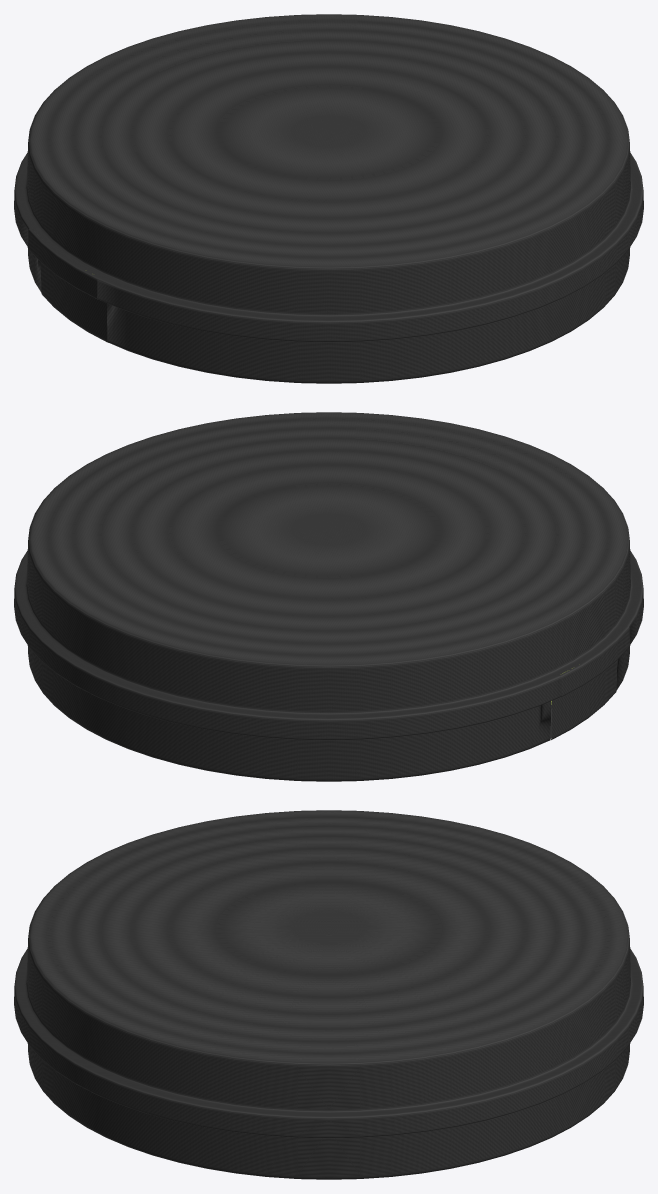
File: spotlight.obj
3 views of the same model, one above another, from view 1: azimuth 30°, elevation 25°; view 2: azimuth 150°, elevation 25°; view 3: azimuth 270°, elevation 25° (orthographic).
Visible parts, largest first — view 1: lamp.001; view 2: lamp.001; view 3: lamp.001.
Part boxes in pixels (x1,y1,x2,y2): lamp.001: [14, 14, 643, 383]; lamp.001: [14, 412, 643, 781]; lamp.001: [14, 810, 643, 1179].
Bounding box in the file's own units: 429 × 110 × 430.
3 materials, 2 textured.
